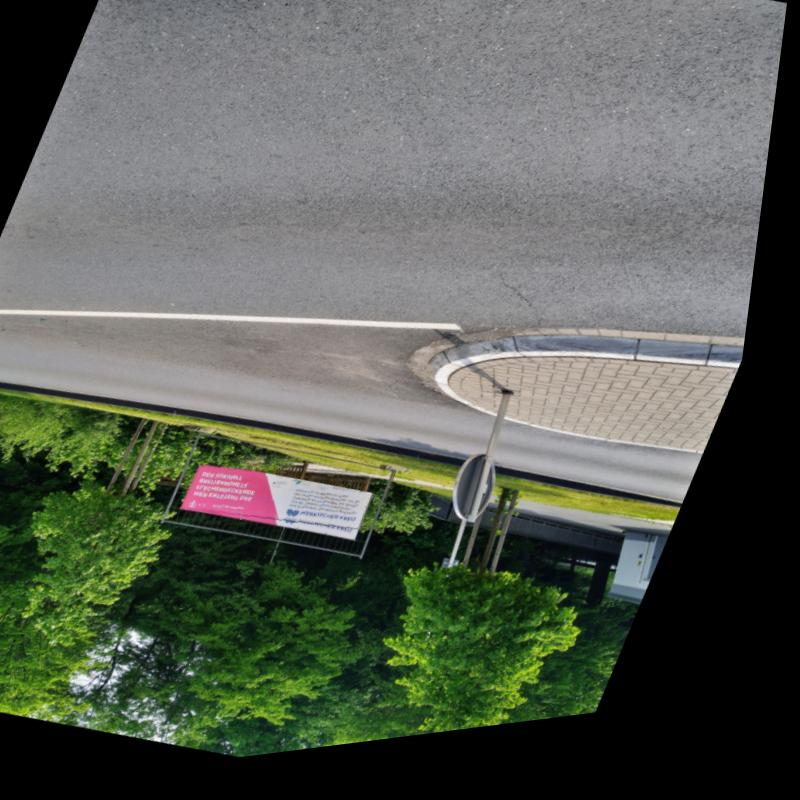Banner: (193, 469, 388, 543)
